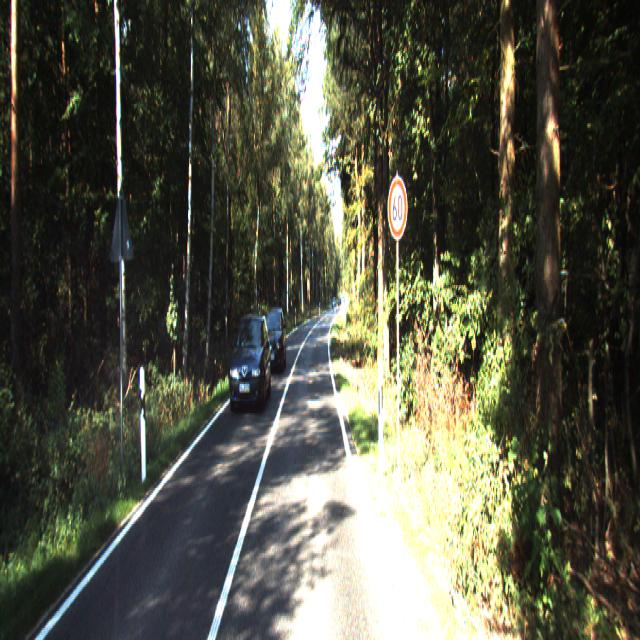Car: (228, 313, 272, 417), (260, 306, 288, 378)
